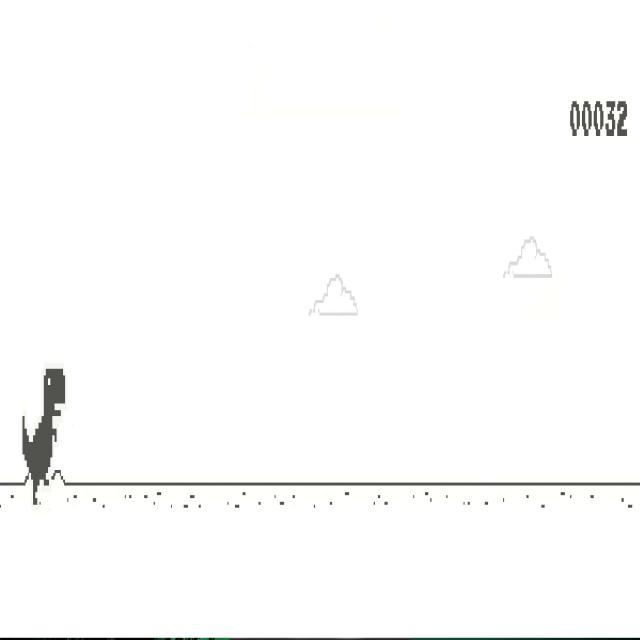dino: (21, 368, 66, 507)
